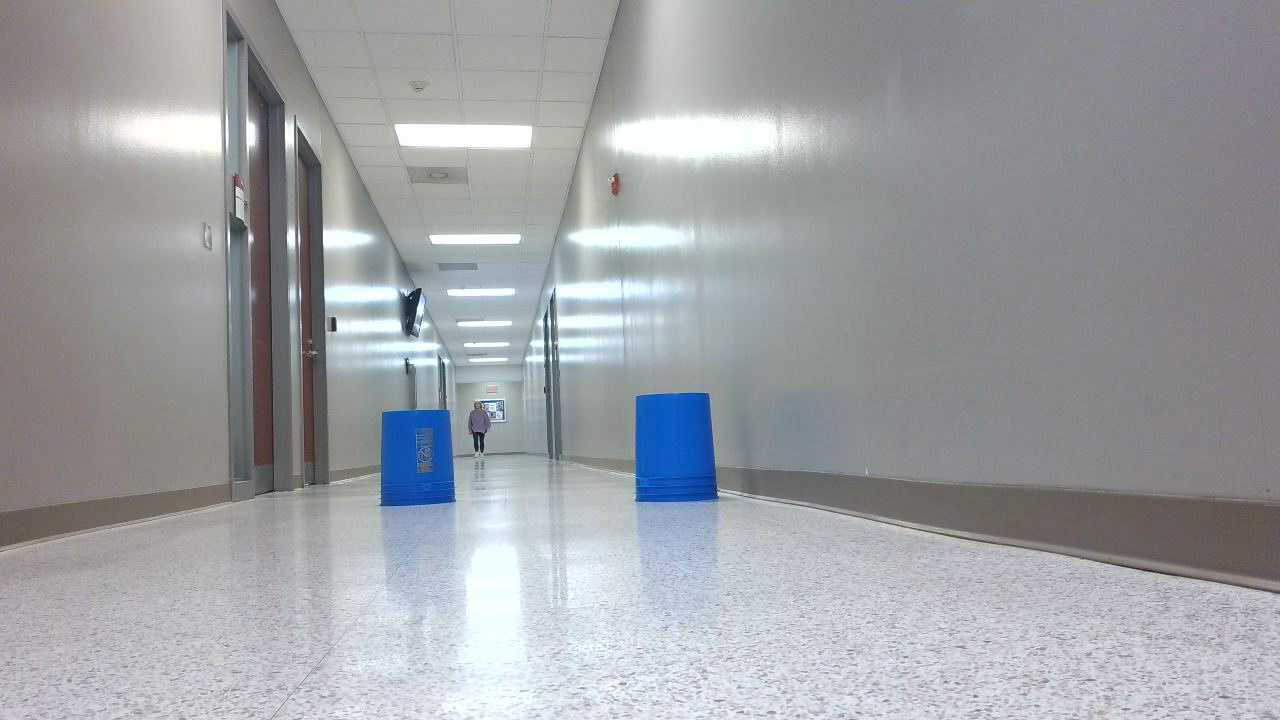blue_bucket: (638, 396, 726, 508), (383, 412, 464, 514)
